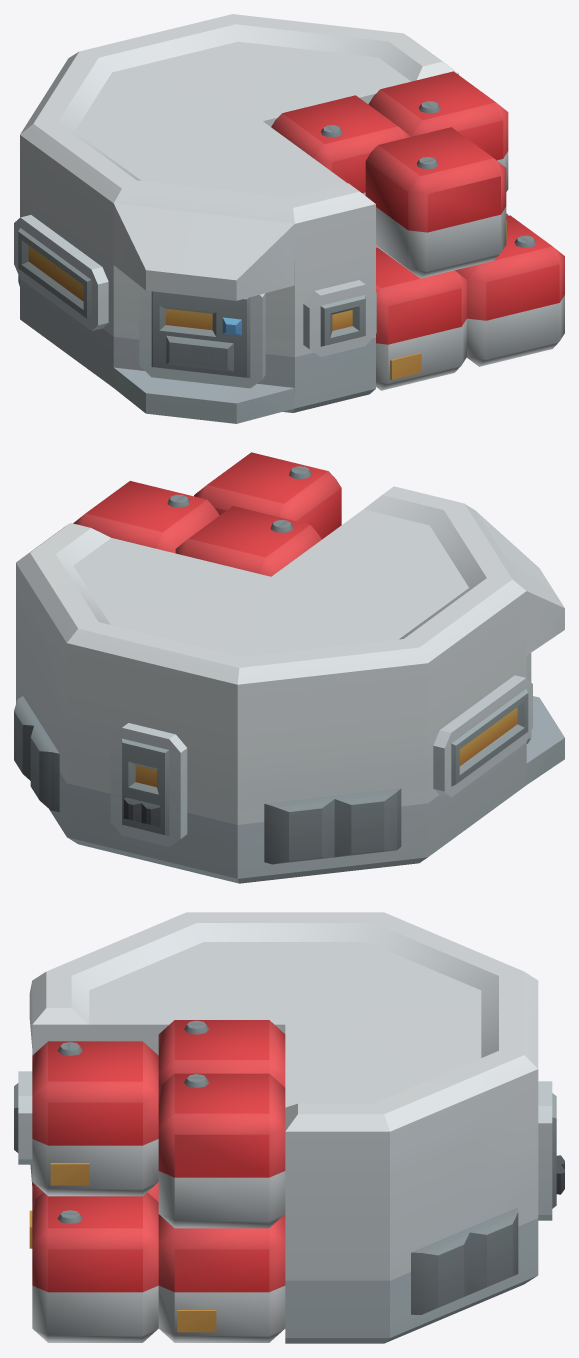
File: kay-deposito-carga-b.gltf
The picture shows the model from 3 angles, top to bottom: view 1: azimuth 30°, elevation 25°; view 2: azimuth 150°, elevation 25°; view 3: azimuth 270°, elevation 25°; orthographic projection. The views are drawn at different scales.
Parts seen in each view (by area): view 1: cargodepot_B; view 2: cargodepot_B; view 3: cargodepot_B.
Part boxes in pixels (<box>): cargodepot_B: <box>14,14,564,423</box>; cargodepot_B: <box>14,452,564,883</box>; cargodepot_B: <box>14,912,564,1343</box>.
Bounding box in the file's own units: 5.41 × 2.65 × 5.66.
Materials: 1 (1 with a texture image).
